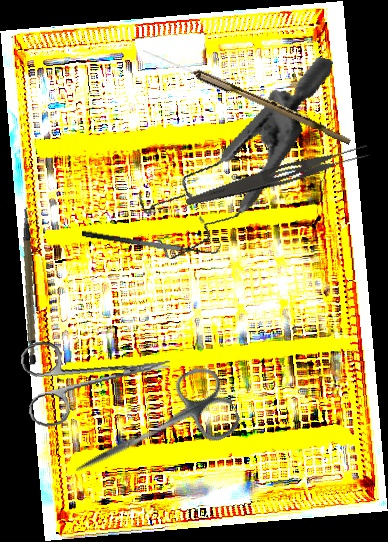Dressing Forceps: (184, 139, 371, 216)
Iris Scissors: (60, 360, 245, 507), (18, 324, 178, 430)
Scalpel Handle: (7, 205, 55, 366)
Spatula Surgical: (81, 219, 222, 261)
Speculum: (126, 24, 334, 285)
Surgical Spoon: (140, 46, 354, 145)
